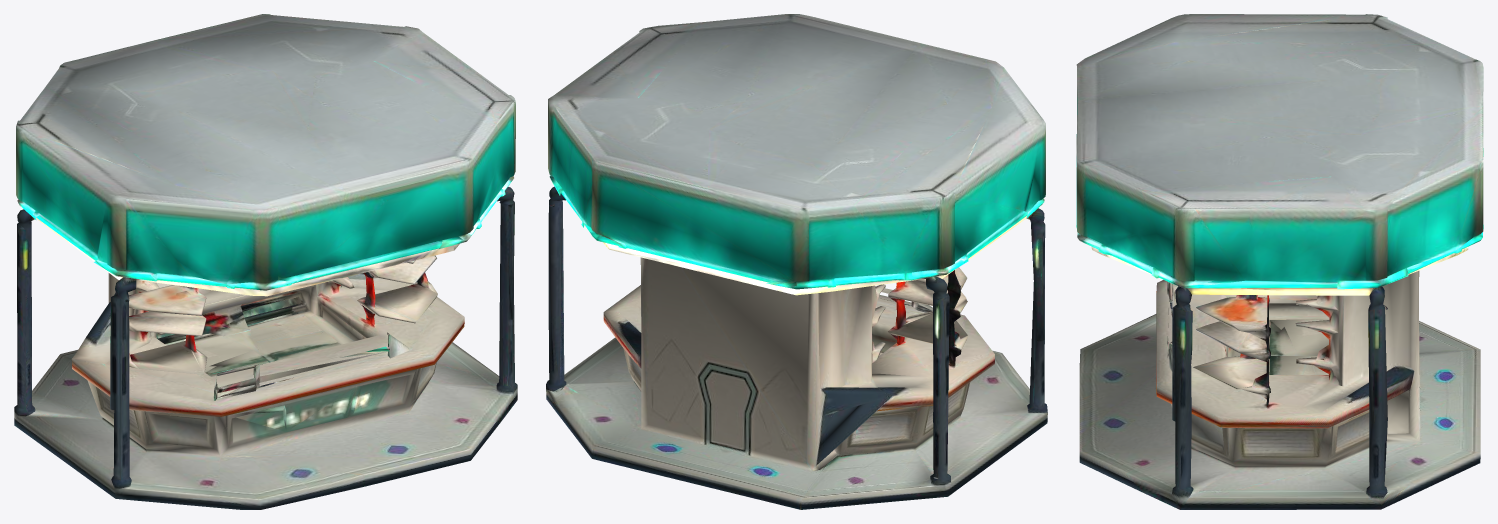
File: covered_market_stall.glb
3 views of the same model, side by side, from view 1: azimuth 30°, elevation 25°; view 2: azimuth 150°, elevation 25°; view 3: azimuth 270°, elevation 25° (orthographic).
Size of the model in its own units: 1.9 by 1.35 by 1.66.
1 material, 1 textured.
